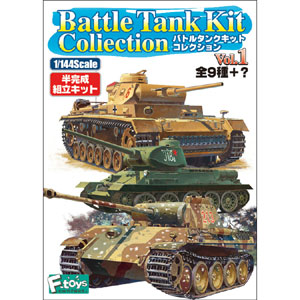Battle Tank: (59, 200, 255, 290), (61, 80, 248, 170), (73, 144, 249, 209)
